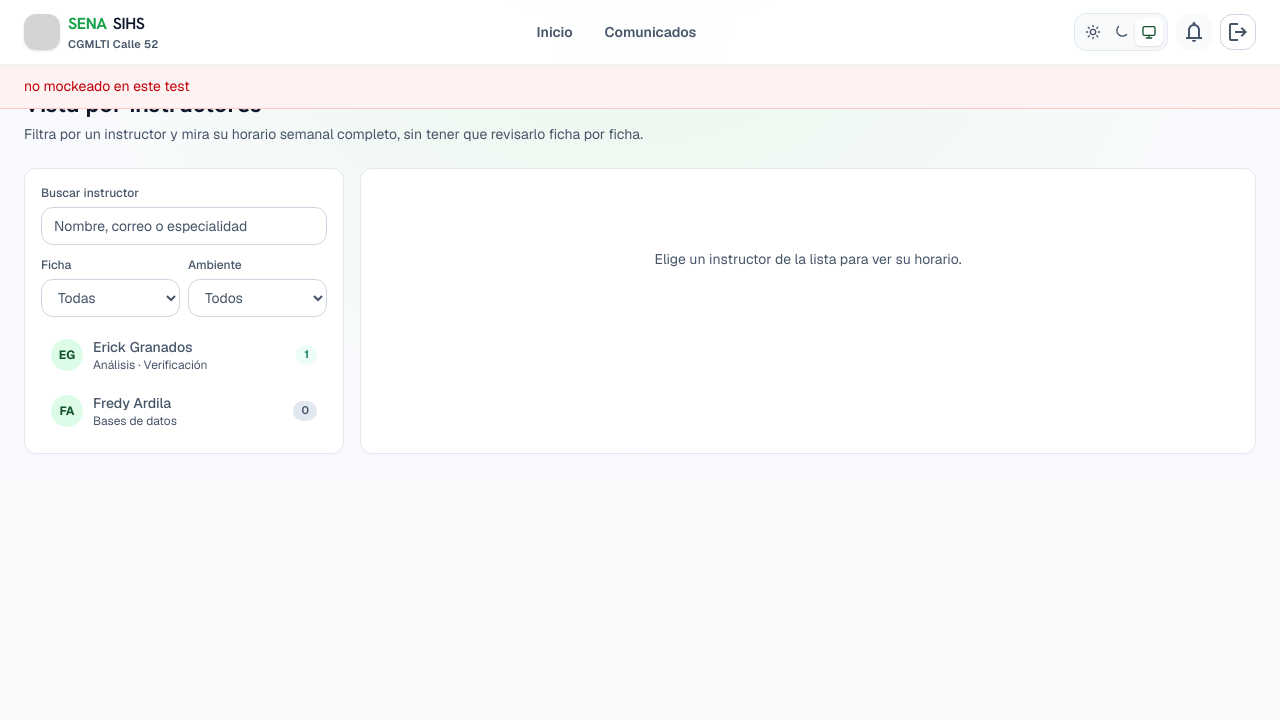
Test: VistaInstructores › clic en un instructor muestra su horario y un link "Ver info" al detalle
What coordinates should you click on to do the following:
click the text "Erick Granados"
I would click on:
 (143, 347)
Its box is [93,338,192,356].
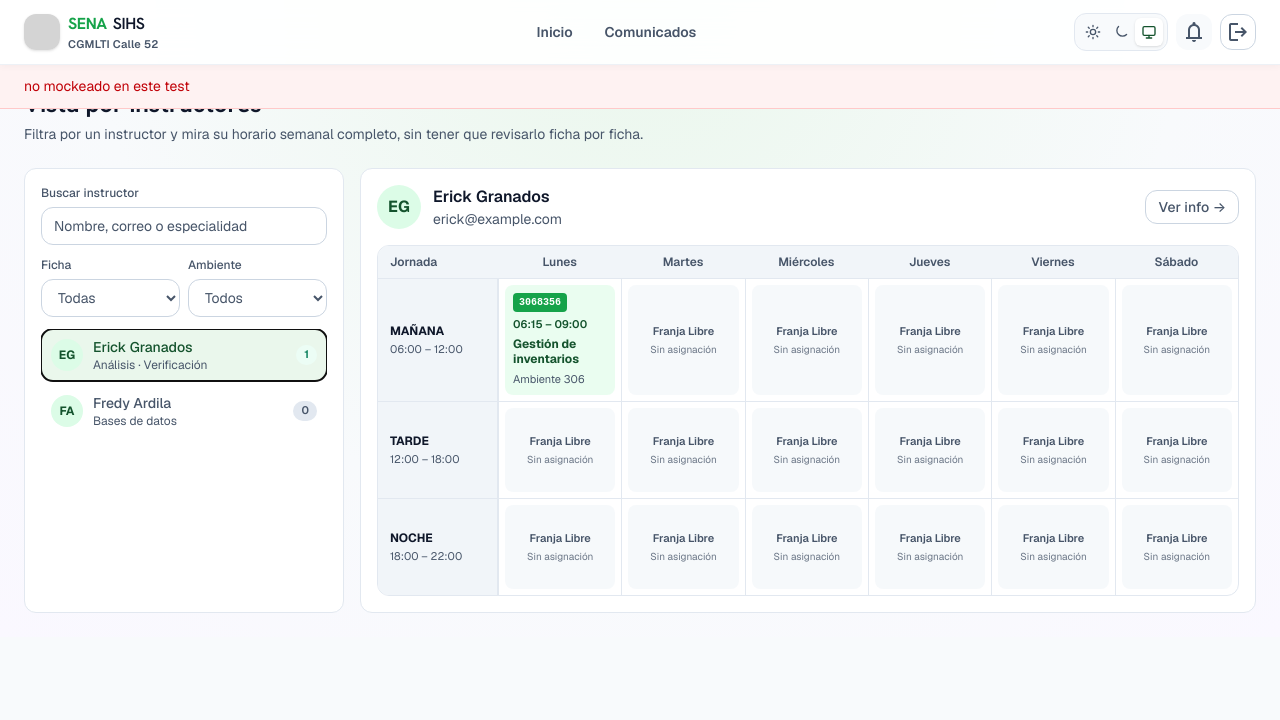
Expected: the text "Gestión de inventarios" is shown, [513,336,579,366]
